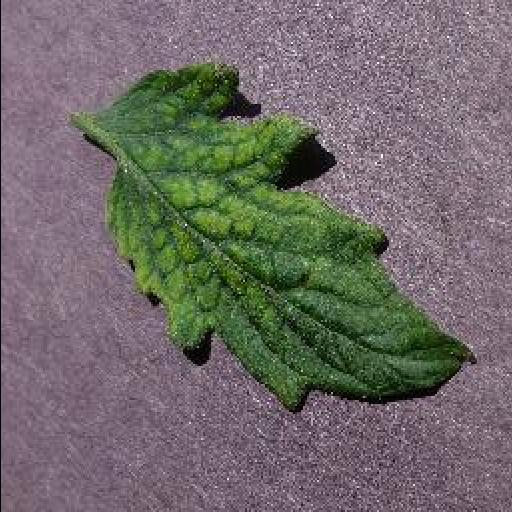disease_tomato: (104, 64, 476, 412)
